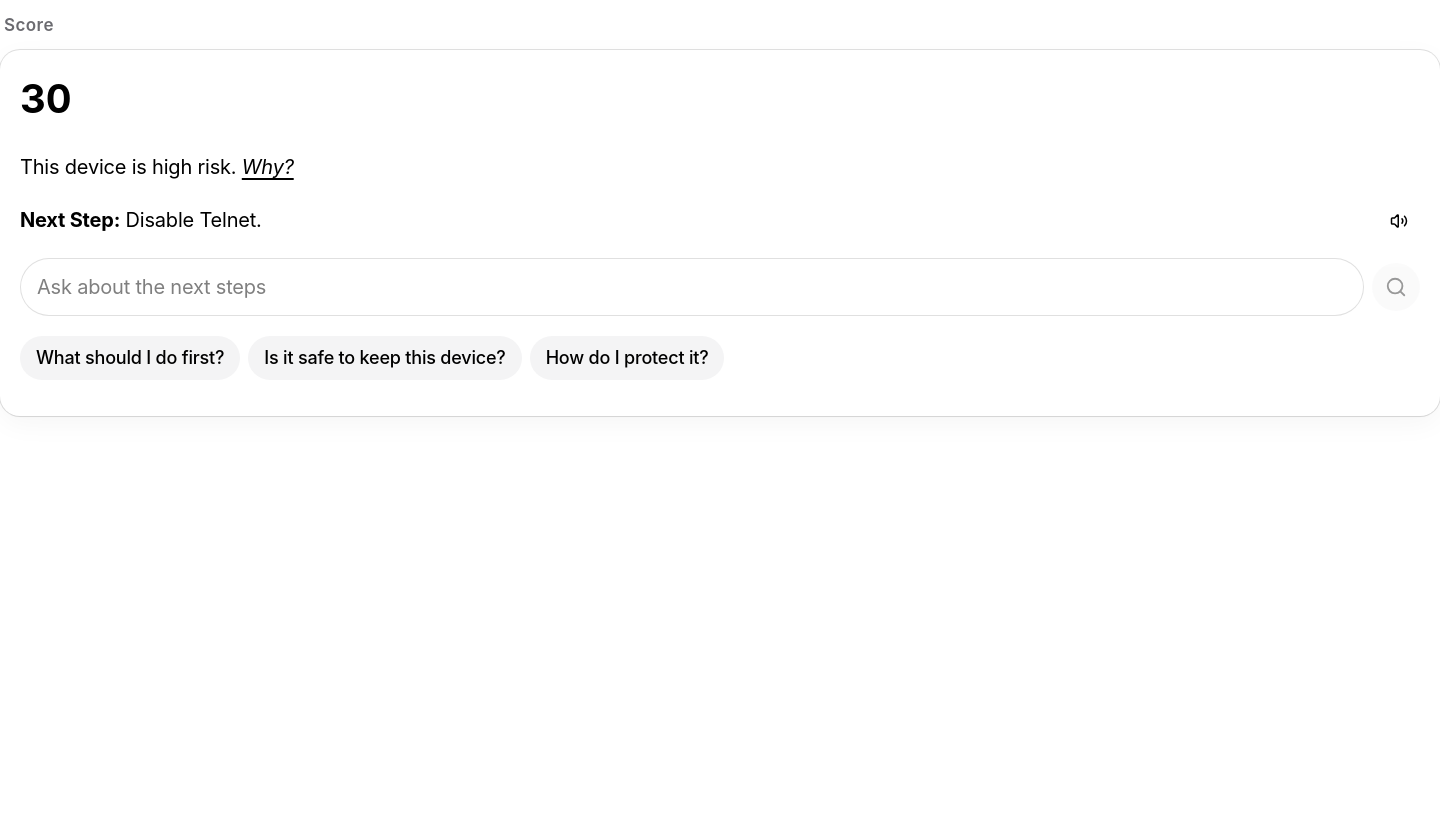
it: adds the question immediately on form submission and accepts the search icon
Type "First question" into the field labelled "Ask about the next steps" at coordinates (692, 287), box [20,258,1364,316]
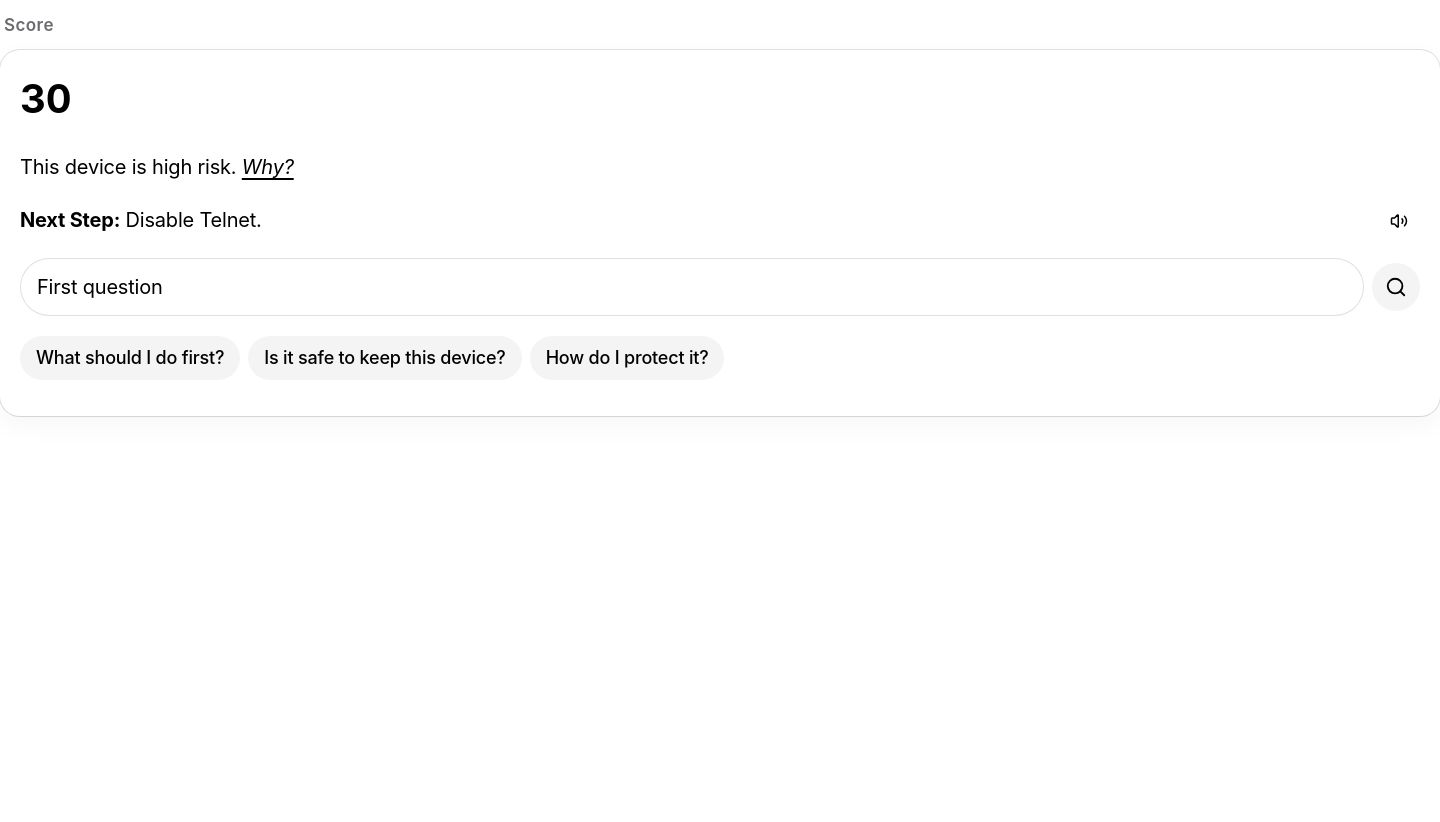
Submit the form named "Ask Advisor", box [20,258,1420,316]
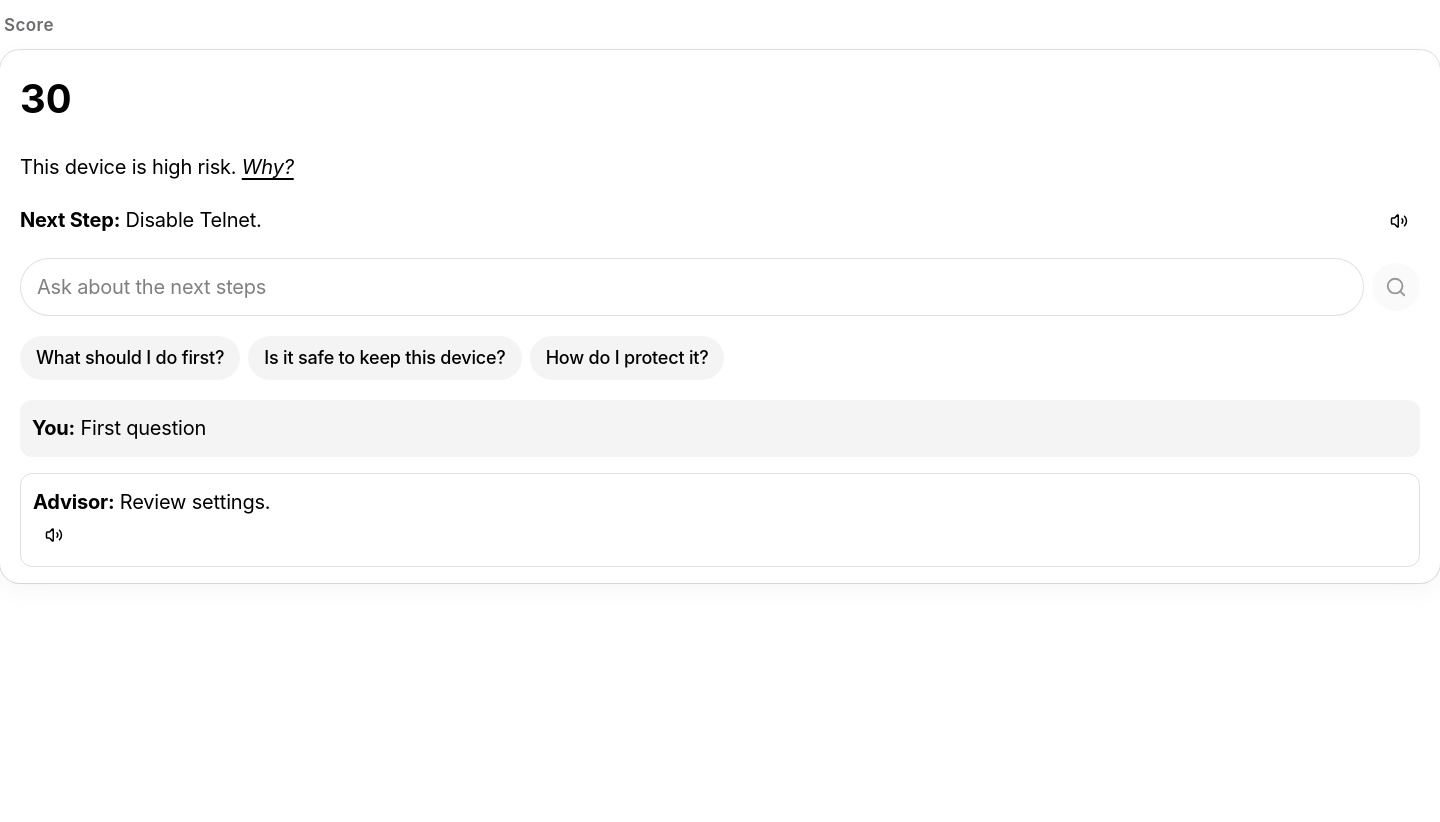
Result: the element showing "You: First question Advisor: Review settings." is shown at [20,400,1420,567]
Result: the text "Review settings." is shown at [120,490,270,514]
Type "Second question" into the field labelled "Ask about the next steps" at coordinates (692, 287), box [20,258,1364,316]
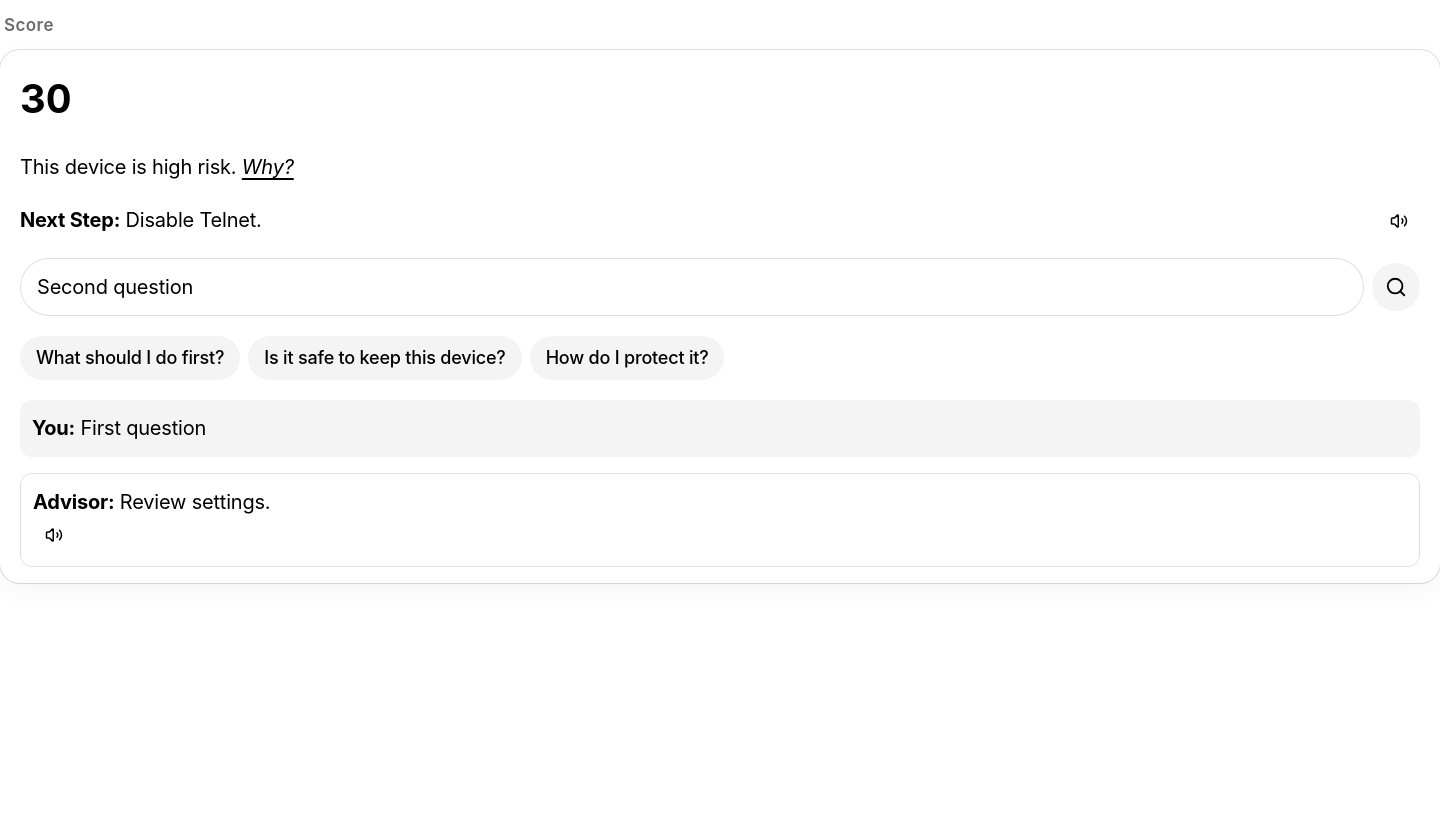
Click the button named "Ask Advisor" at coordinates (1396, 287), box [1372,263,1420,311]
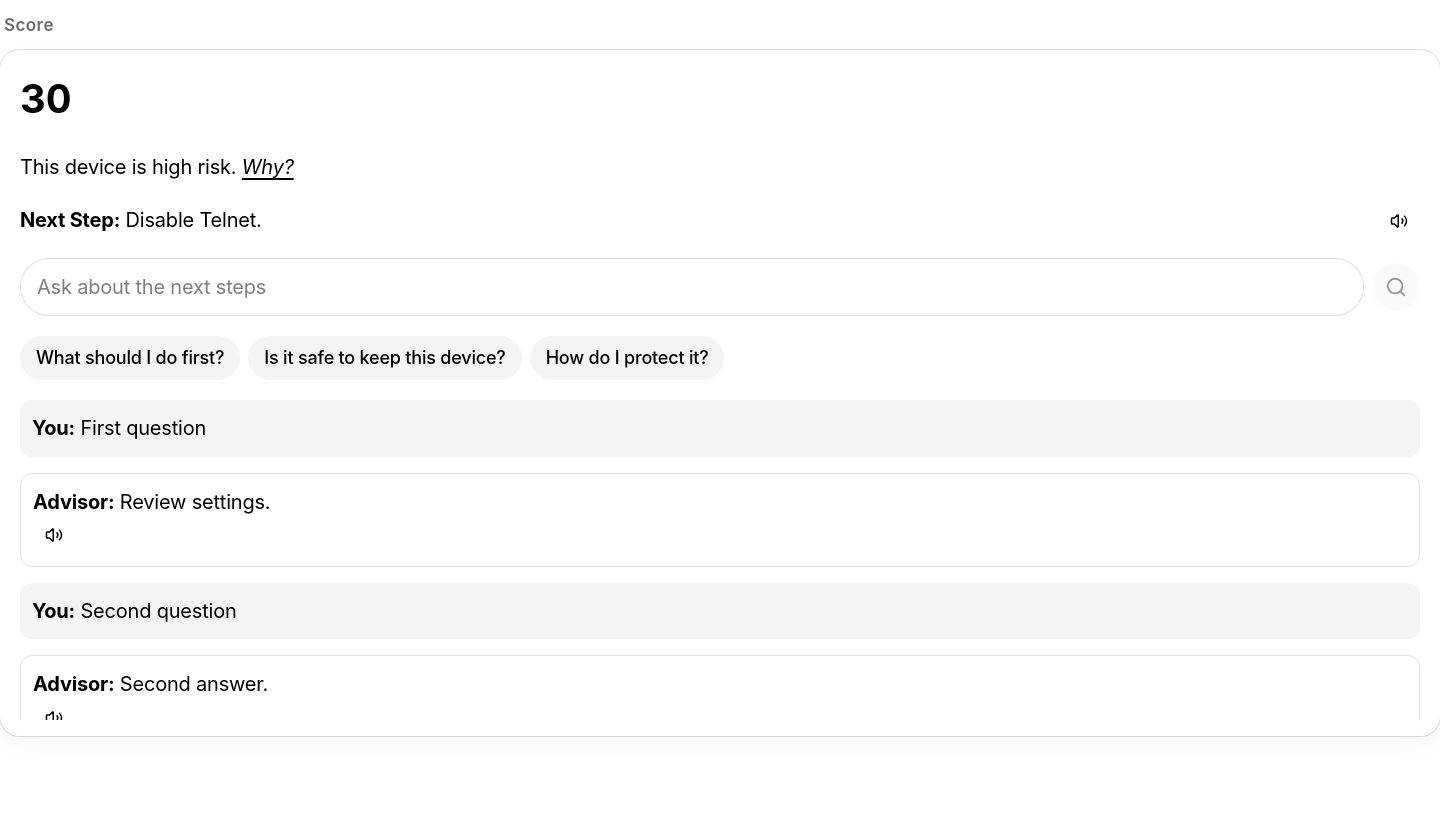
Result: the element named "Advisor Conversation" shows "Second question" at [80,599,237,623]
